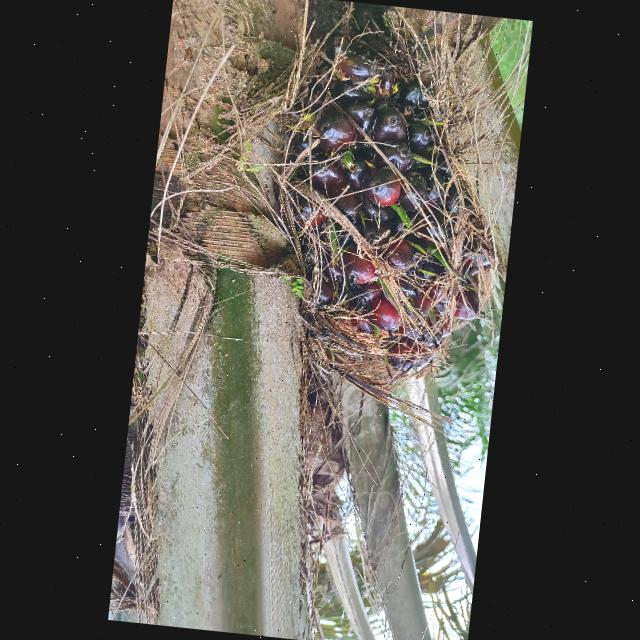Unripe: (286, 26, 504, 370)
